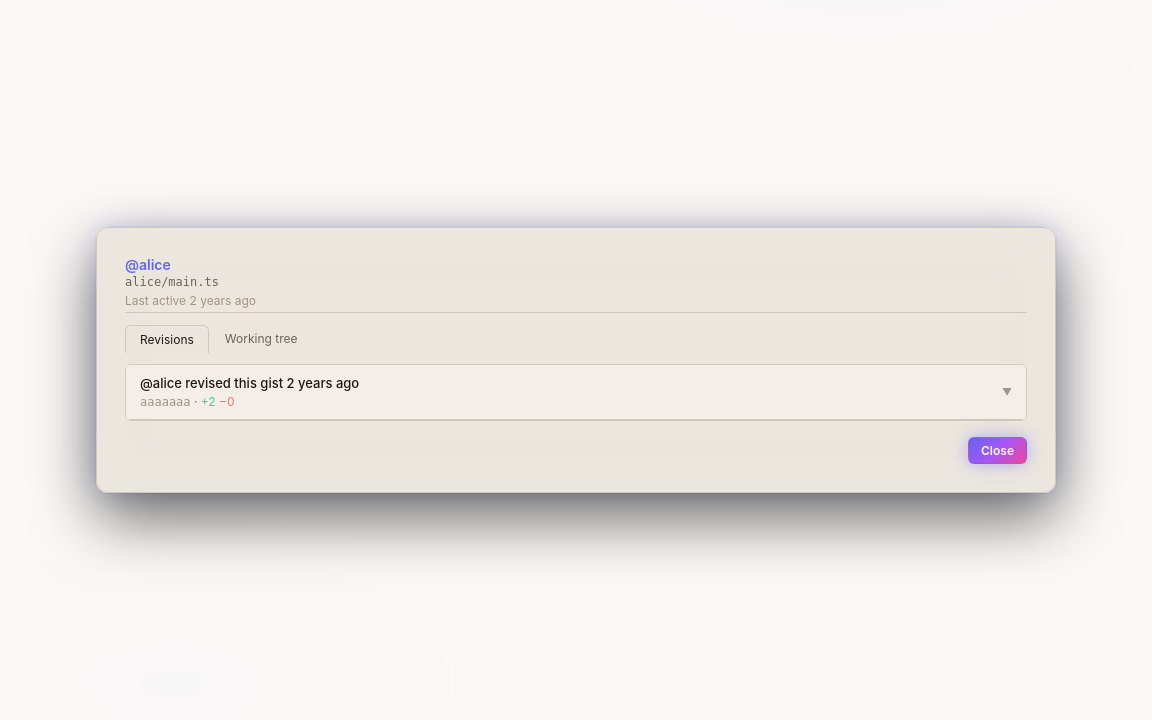
Scenario: DiffModal › expands a revision to load and show its diff
Click the text "alice revised this gist": (250, 383) [140, 375, 359, 391]
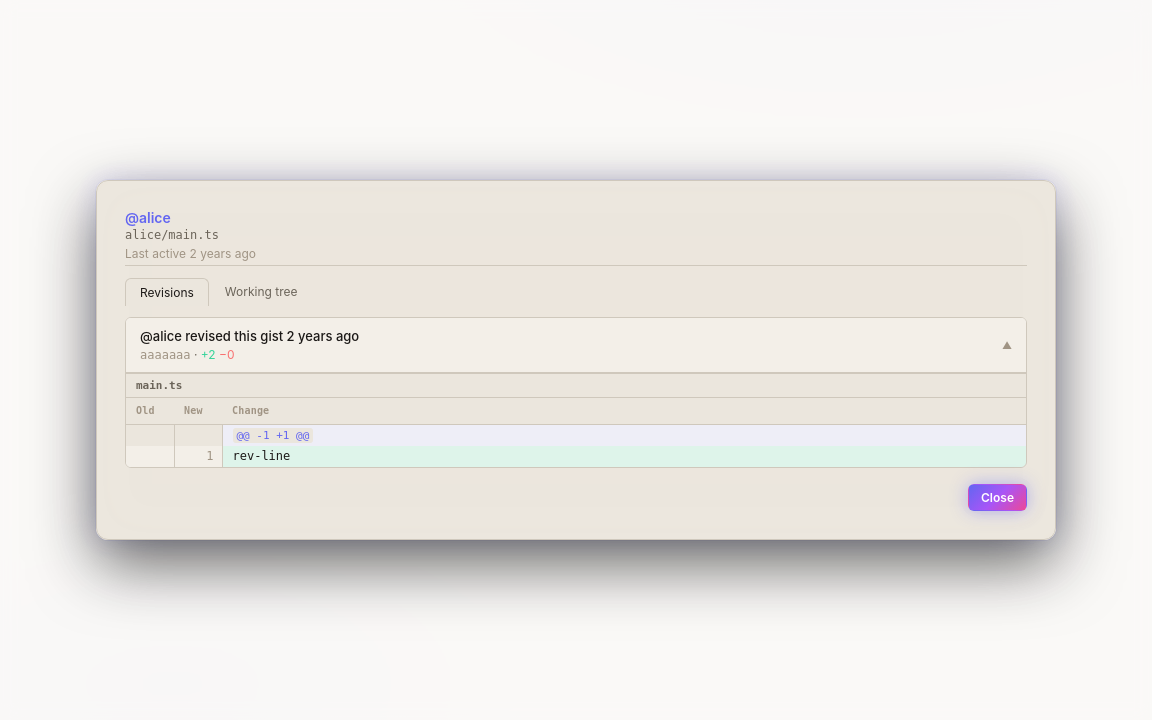
Expected: the text "rev-line" is shown, [232, 449, 290, 463]
